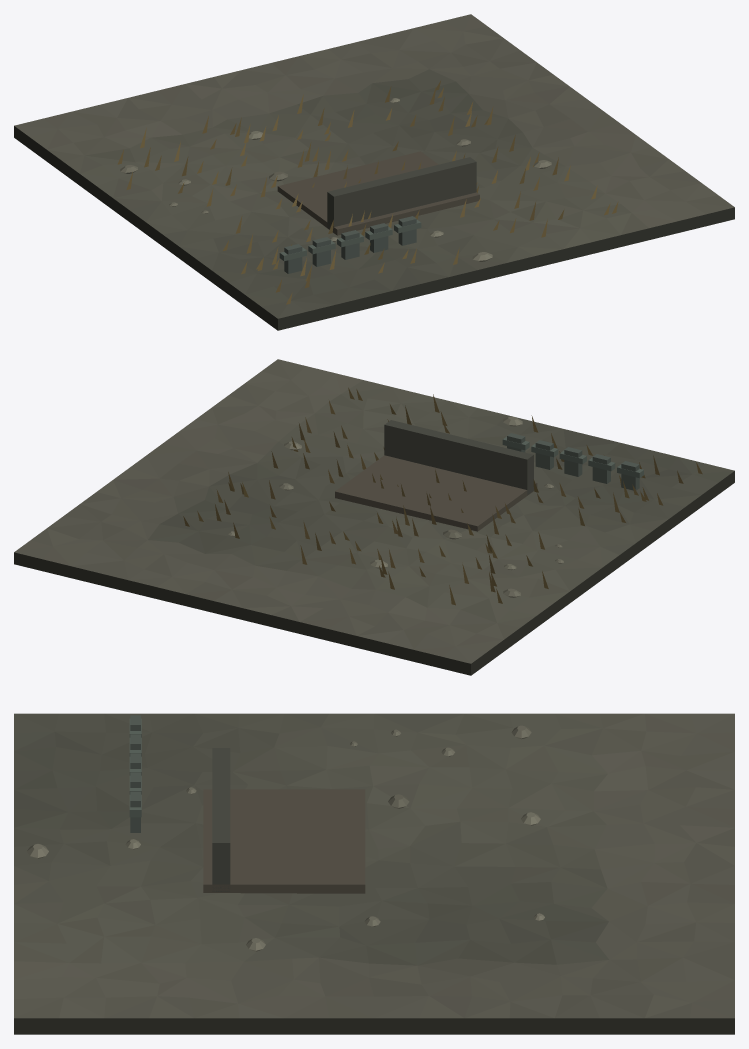
File: CHUNK_abandoned_village__evacuated_funeral_hamlet__01.glb
3 renders of one model, top to bottom at view 1: azimuth 30°, elevation 25°; view 2: azimuth 150°, elevation 25°; view 3: azimuth 270°, elevation 25°, orthographic. The views are drawn at different scales.
Visible parts, largest first — view 1: CHUNK_abandoned_village__evacuated_funeral_hamlet__01; view 2: CHUNK_abandoned_village__evacuated_funeral_hamlet__01; view 3: CHUNK_abandoned_village__evacuated_funeral_hamlet__01.
Boxes of the visible parts, box(x1,y1,x2,y2) form: CHUNK_abandoned_village__evacuated_funeral_hamlet__01: box(14, 14, 734, 330); CHUNK_abandoned_village__evacuated_funeral_hamlet__01: box(14, 359, 734, 675); CHUNK_abandoned_village__evacuated_funeral_hamlet__01: box(14, 713, 734, 1034).
Bounding box in the file's own units: 8 × 0.83 × 8.
